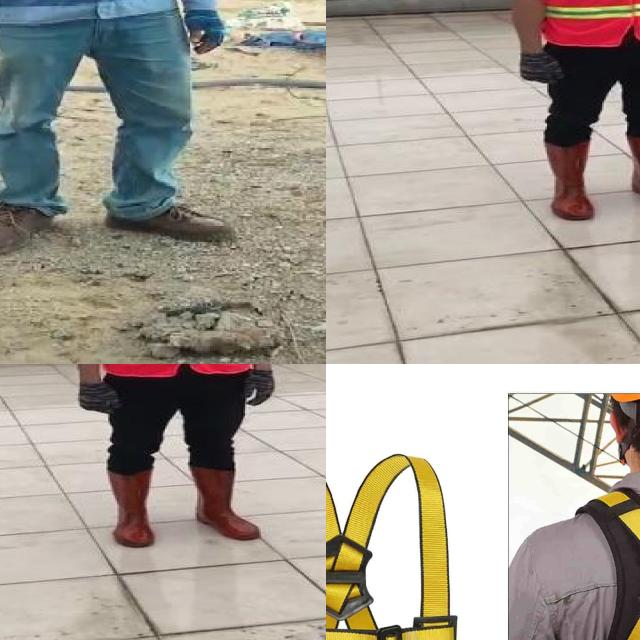Harness: (326, 449, 492, 640)
boots: (179, 465, 265, 541), (540, 136, 600, 219), (101, 468, 163, 548), (625, 134, 640, 211)
hand_glove: (178, 8, 228, 56), (513, 50, 563, 85), (72, 381, 120, 414), (245, 369, 282, 405)
person: (0, 0, 228, 254), (52, 364, 290, 549), (492, 0, 640, 223)
shoes: (98, 187, 238, 245), (0, 195, 67, 259)
vest: (538, 0, 640, 42)
